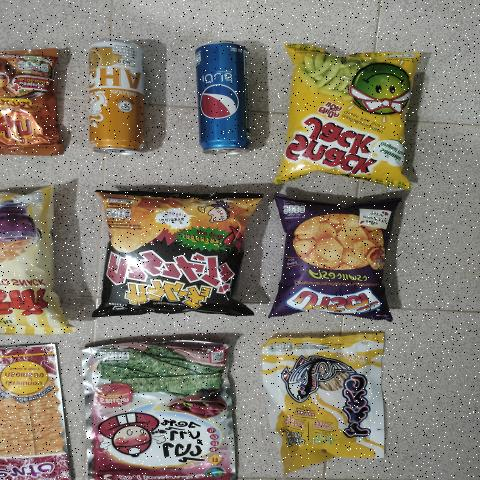karamujo: (104, 194, 248, 314)
party_purple: (281, 205, 404, 314)
pepsi_blue: (196, 37, 258, 158)
singha_yellow: (84, 34, 144, 155)
snack_jack: (291, 55, 420, 176)
taokaenoi: (90, 339, 243, 480)
taro_yellow: (260, 336, 390, 473)
